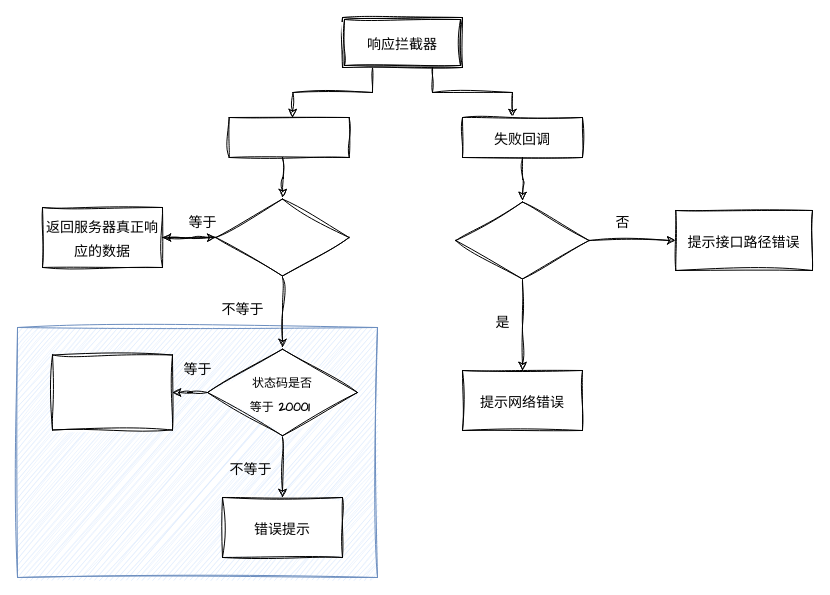
Image size: 830x595. Some labels were removed from this diagram. The box of each missing label's shape, as (x1, y1, x2, y2) in pixels:
成功回调: (228, 116, 349, 158)
是否是网络错误: (455, 200, 589, 280)
清除用户信息、token、跳转到登录页面: (52, 354, 172, 430)
状态码是否 等于 200: (215, 196, 349, 278)
